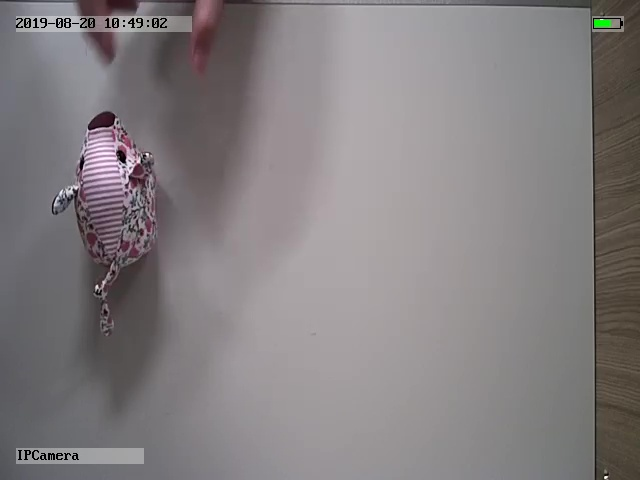pig: (50, 109, 161, 338)
